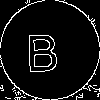B: (25, 25, 60, 72)
